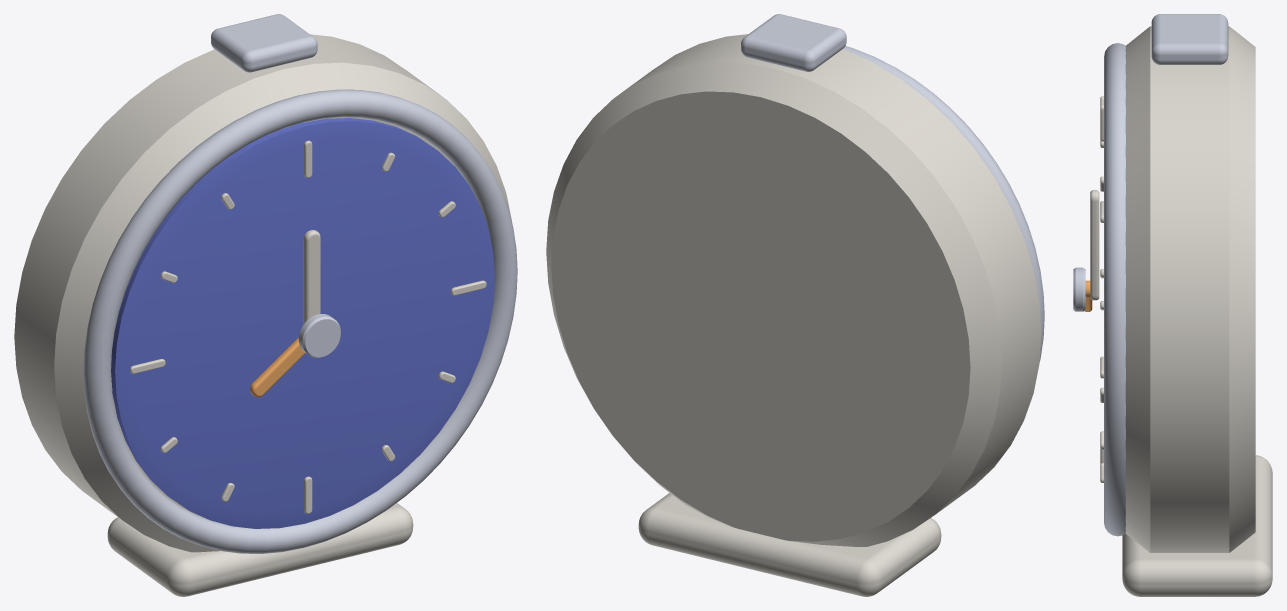
The model's file is desk-timer.glb.
The picture shows the model from 3 angles, left to right: view 1: azimuth 30°, elevation 25°; view 2: azimuth 150°, elevation 25°; view 3: azimuth 270°, elevation 25°; orthographic projection.
Visible parts, largest first — view 1: desk-timer; view 2: desk-timer; view 3: desk-timer.
Boxes of the visible parts, x1=… form: desk-timer: x1=14, y1=14, x2=517, y2=596; desk-timer: x1=546, y1=14, x2=1044, y2=596; desk-timer: x1=1073, y1=14, x2=1272, y2=596.
Size of the model in its own units: 1.72 by 1.85 by 0.65.
